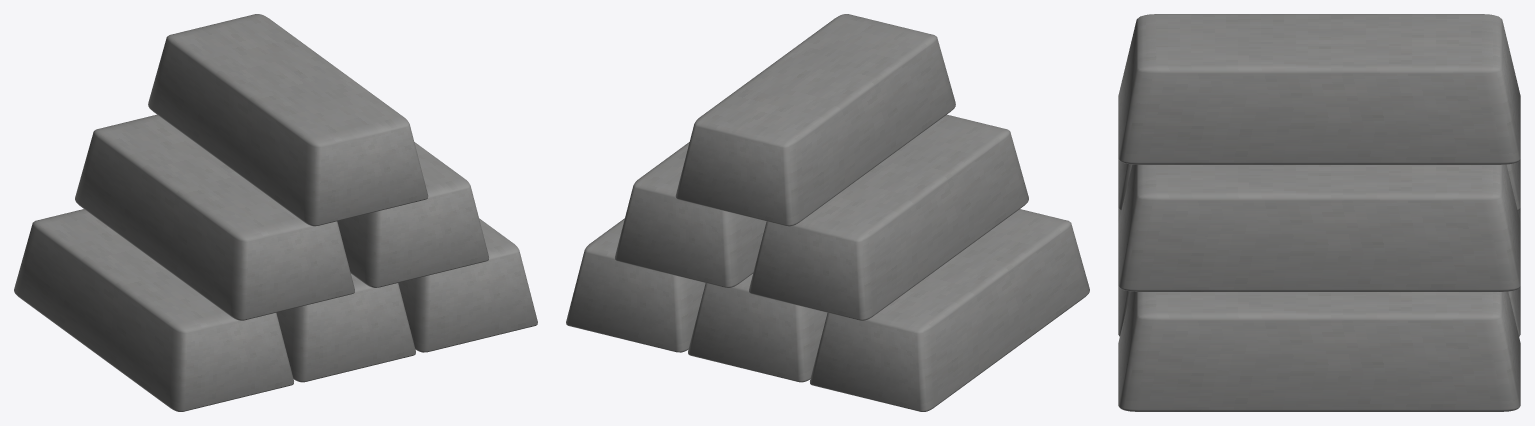
The model's file is Ingots.glb.
3 renders of one model, left to right at view 1: azimuth 30°, elevation 25°; view 2: azimuth 150°, elevation 25°; view 3: azimuth 270°, elevation 25°, orthographic. The views are drawn at different scales.
Parts seen in each view (by area): view 1: Ingot, Ingot.004, Ingot.003, Ingot.005, Ingot.002, Ingot.001; view 2: Ingot, Ingot.004, Ingot.003, Ingot.005, Ingot.002, Ingot.001; view 3: Ingot, Ingot.005, Ingot.002, Ingot.004, Ingot.001.
Part boxes in pixels (<box>): Ingot: <box>148,14,428,226</box>; Ingot.004: <box>75,114,354,320</box>; Ingot.003: <box>14,209,293,411</box>; Ingot.005: <box>337,142,488,287</box>; Ingot.002: <box>398,218,537,352</box>; Ingot.001: <box>276,274,415,382</box>; Ingot: <box>675,14,955,226</box>; Ingot.004: <box>749,114,1028,320</box>; Ingot.003: <box>810,209,1089,411</box>; Ingot.005: <box>615,142,766,287</box>; Ingot.002: <box>566,218,705,352</box>; Ingot.001: <box>688,274,827,382</box>; Ingot: <box>1118,14,1520,164</box>; Ingot.005: <box>1118,164,1520,291</box>; Ingot.002: <box>1118,291,1520,411</box>; Ingot.004: <box>1118,159,1520,210</box>; Ingot.001: <box>1118,286,1520,336</box>.
Size of the model in its own units: 0.5416 by 0.326 by 0.4326.
1 material, 1 textured.
